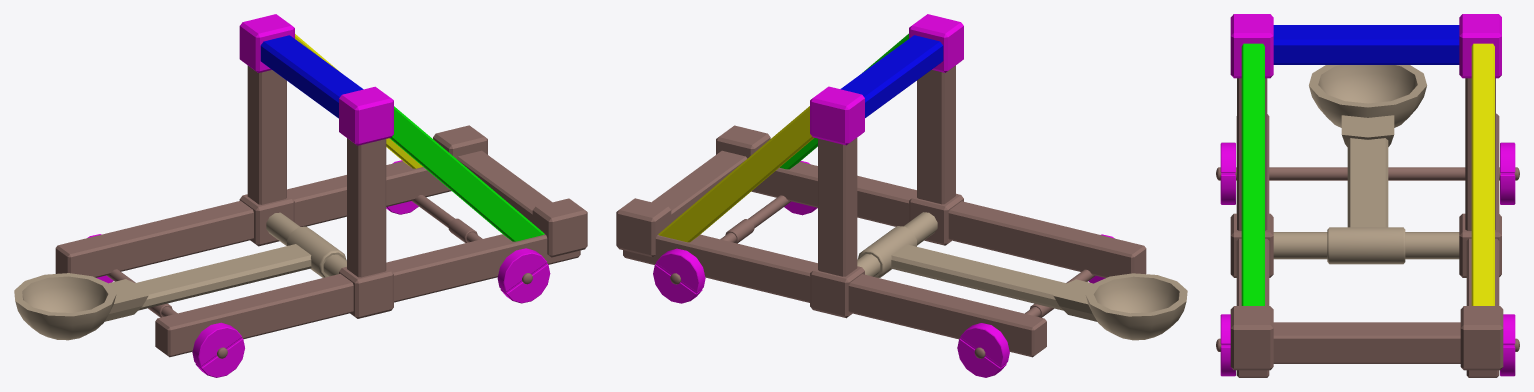
The model's file is catapulta-f.fbx.
3 renders of one model, left to right at view 1: azimuth 30°, elevation 25°; view 2: azimuth 150°, elevation 25°; view 3: azimuth 270°, elevation 25°, orthographic. The views are drawn at different scales.
Parts seen in each view (by area): view 1: base_catapul, catapbrazo, pal_derecho_catap1, ruedas_catap, bloq_catap, palo_sup_catap1, palo_izq_catap1; view 2: base_catapul, catapbrazo, palo_izq_catap1, ruedas_catap, bloq_catap, palo_sup_catap1, pal_derecho_catap1; view 3: base_catapul, catapbrazo, palo_sup_catap1, palo_izq_catap1, pal_derecho_catap1, bloq_catap, ruedas_catap.
Part boxes in pixels (x1,y1,x2,y2): base_catapul: (55, 65, 587, 358); catapbrazo: (14, 212, 346, 340); pal_derecho_catap1: (389, 106, 544, 241); ruedas_catap: (87, 160, 550, 377); bloq_catap: (239, 14, 393, 145); palo_sup_catap1: (260, 35, 363, 118); palo_izq_catap1: (295, 34, 422, 168); base_catapul: (616, 65, 1146, 358); catapbrazo: (857, 212, 1187, 340); palo_izq_catap1: (658, 106, 814, 242); ruedas_catap: (653, 161, 1114, 377); bloq_catap: (810, 14, 963, 145); palo_sup_catap1: (840, 35, 943, 117); pal_derecho_catap1: (780, 33, 908, 169); base_catapul: (1216, 78, 1519, 377); catapbrazo: (1273, 65, 1459, 264); palo_sup_catap1: (1273, 25, 1459, 64); palo_izq_catap1: (1471, 43, 1494, 305); pal_derecho_catap1: (1241, 43, 1264, 305); bloq_catap: (1230, 14, 1501, 78); ruedas_catap: (1220, 142, 1515, 376).
Size of the model in its own units: 12.18 by 5.32 by 5.47.
